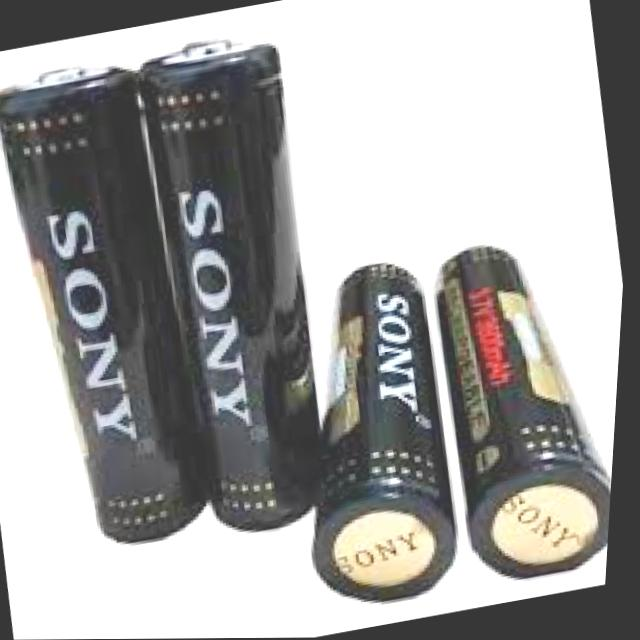B3: (0, 21, 359, 572), (299, 197, 631, 629)
